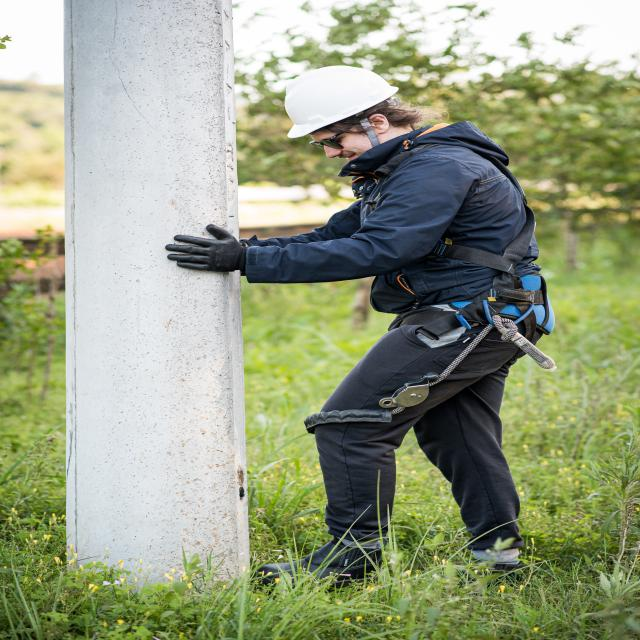botas: (255, 536, 391, 590)
capacete: (276, 63, 402, 141)
luva: (162, 222, 247, 279)
